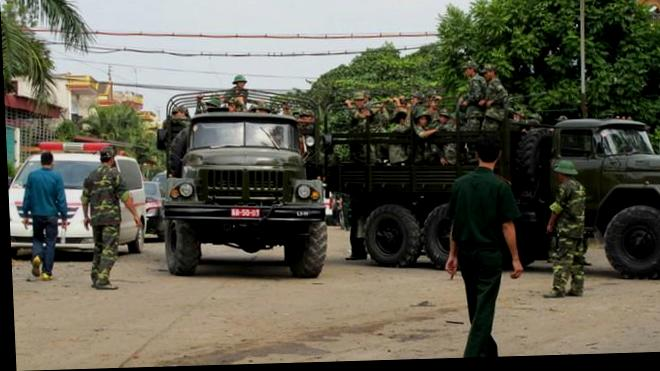License_Plate: (230, 205, 263, 219)
